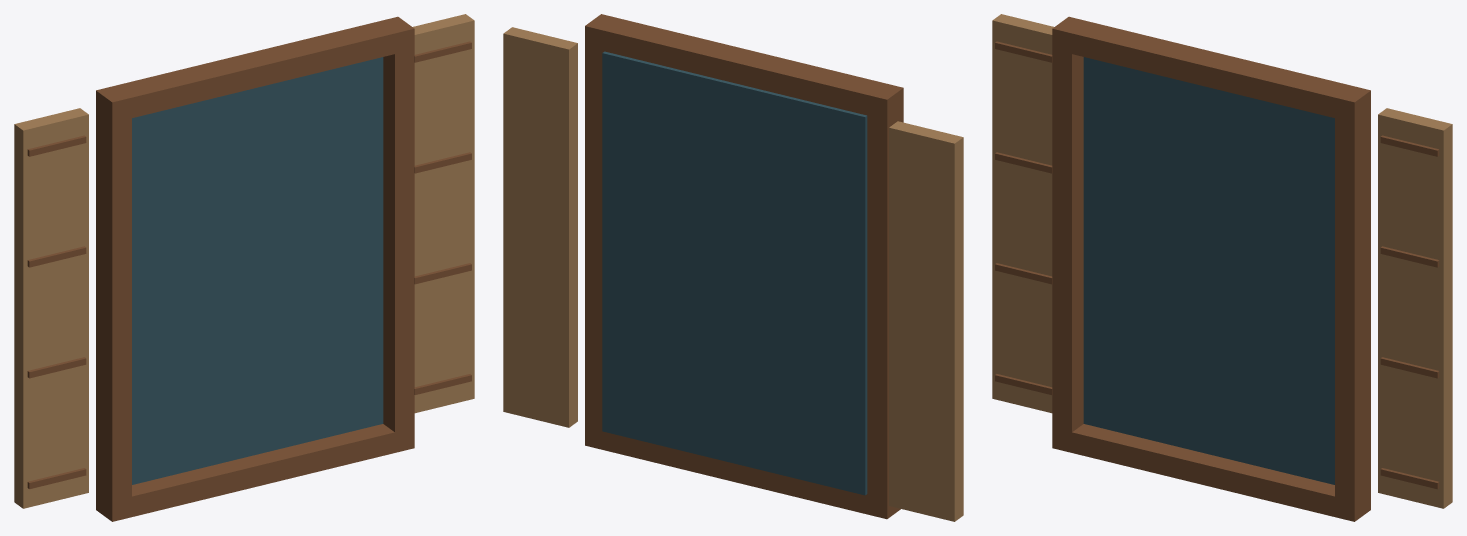
File: window_05.glb
3 renders of one model, left to right at view 1: azimuth 30°, elevation 25°; view 2: azimuth 150°, elevation 25°; view 3: azimuth 330°, elevation 25°, orthographic.
Visible parts, largest first — view 1: window_05; view 2: window_05; view 3: window_05.
Part boxes in pixels (bbox=[...]): window_05: bbox=[14, 14, 474, 521]; window_05: bbox=[503, 14, 963, 521]; window_05: bbox=[992, 14, 1452, 521].
Bounding box in the file's own units: 2.06 × 1.83 × 0.185.
